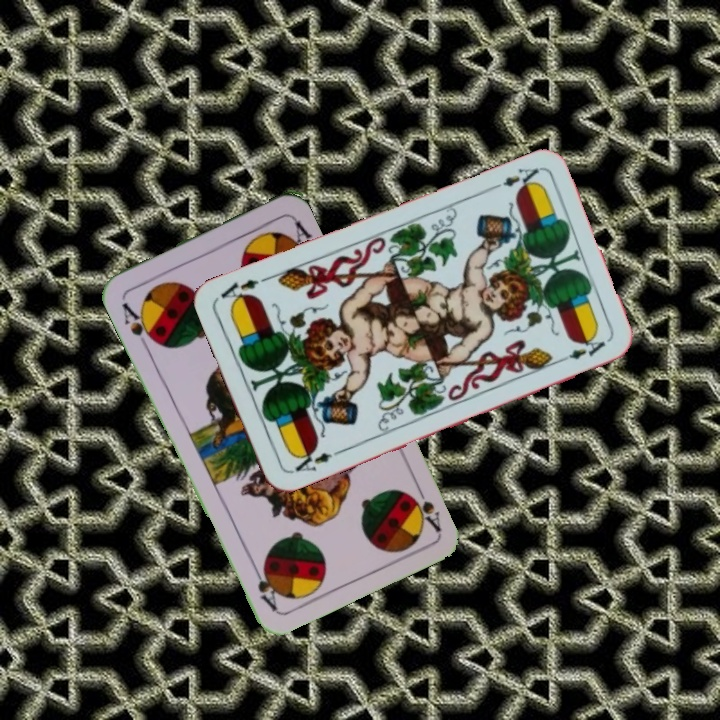EA: (485, 163, 543, 194), (289, 445, 342, 475)
SA: (117, 298, 159, 351), (407, 478, 444, 534)
